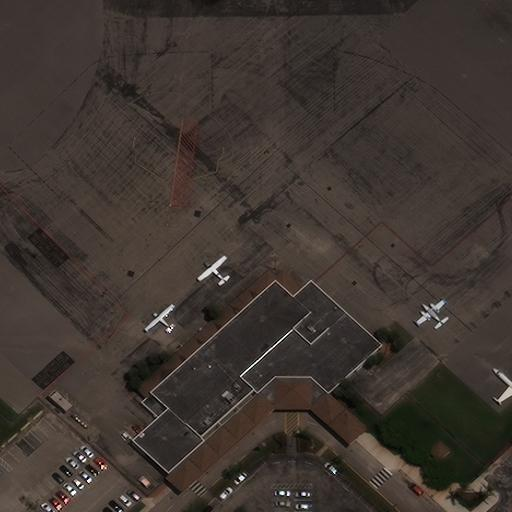Small Civil Transport: (196, 255, 226, 282), (144, 303, 172, 330), (416, 299, 443, 325), (492, 367, 512, 400)
